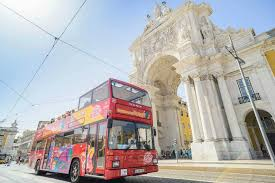bus: (28, 77, 160, 183)
